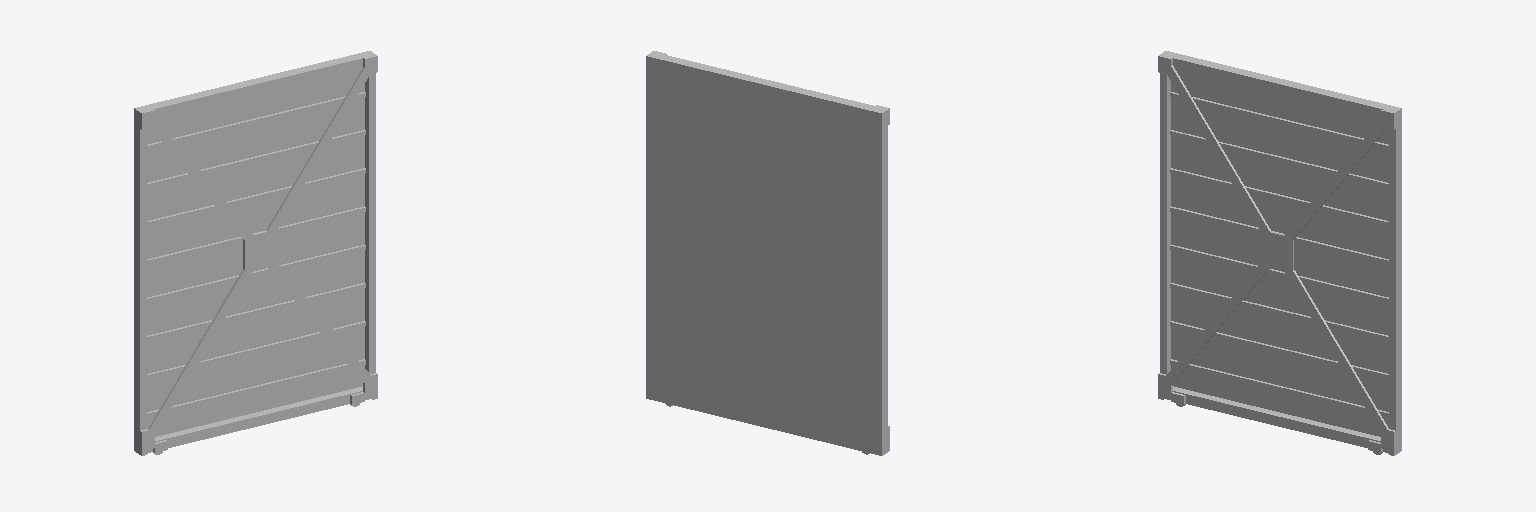
The model's file is b_door_r1.obj.
The picture shows the model from 3 angles: view 1: azimuth 30°, elevation 25°; view 2: azimuth 150°, elevation 25°; view 3: azimuth 330°, elevation 25°; orthographic projection.
Size of the model in its own units: 1067 by 1502 by 58.95.